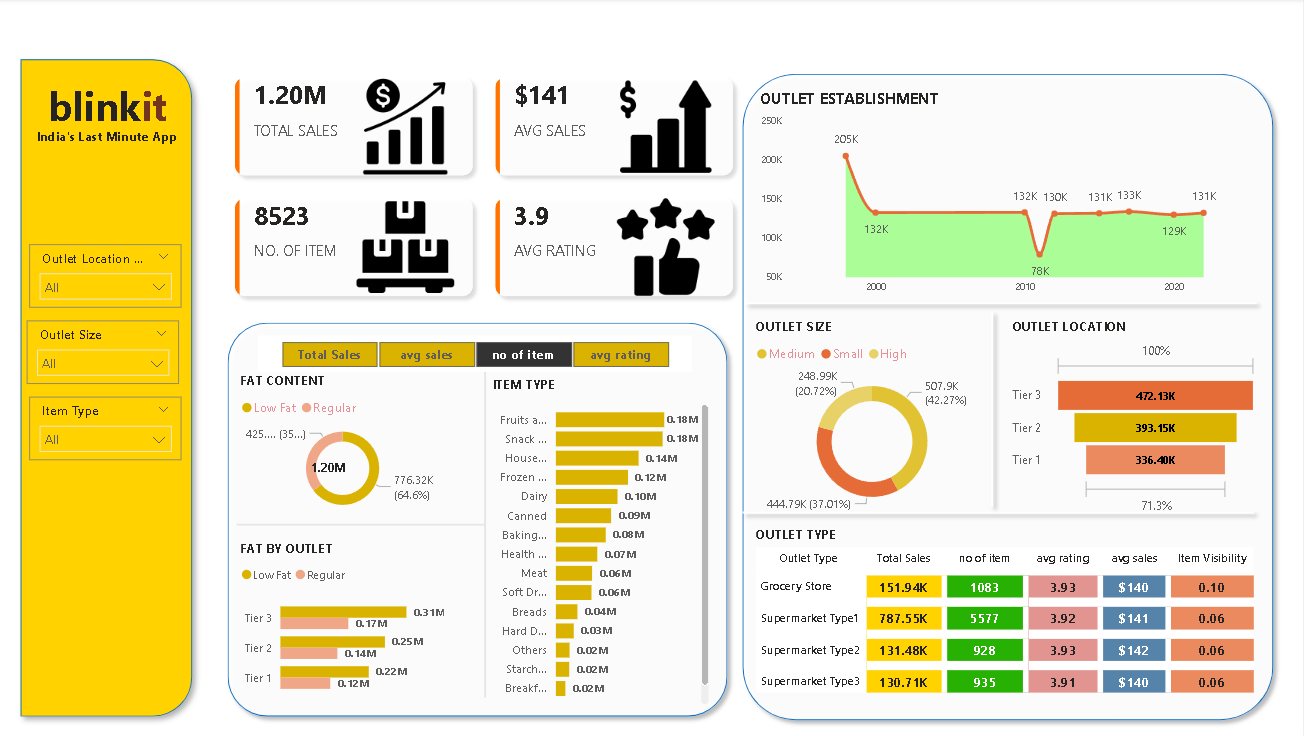

What the dashboard file says about the page in this screenshot:
{"tool":"powerbi","page":{"name":"Page 1","canvas":[1400,800],"ordinal":0},"visuals":[{"type":"shape","box":[13.2,54.7,205.7,726.4],"z":0},{"type":"textbox","box":[30.2,81.1,173.6,86.8],"z":1000},{"type":"textbox","box":[15.1,134,205.7,45.3],"z":2000},{"type":"cardVisual","fields":{"Data":["Sum(BlinkIT Grocery Data.Total Sales)","BlinkIT Grocery Data.avg sales","BlinkIT Grocery Data.no of item","BlinkIT Grocery Data.avg rating"]},"box":[237.7,67.9,569.8,269.8],"z":3000},{"type":"shape","box":[237.7,339,553.9,440.3],"z":4000},{"type":"donutChart","title":"FAT CONTENT","fields":{"Y":["Sum(BlinkIT Grocery Data.Total Sales)"],"Category":["BlinkIT Grocery Data.Item Fat Content"]},"box":[256.3,401,227.4,159.2],"z":5000},{"type":"slicer","fields":{"Values":["matrixs.matrixs"]},"box":[279,361.7,465.1,39.3],"z":6000},{"type":"card","fields":{"Values":["Sum(BlinkIT Grocery Data.Total Sales)"]},"box":[301.8,473.3,105.4,66.1],"z":7000},{"type":"clusteredBarChart","title":"FAT BY OUTLET","fields":{"Category":["BlinkIT Grocery Data.Outlet Location Type"],"Y":["Sum(BlinkIT Grocery Data.Total Sales)"],"Series":["BlinkIT Grocery Data.Item Fat Content"]},"box":[256.3,580.8,227.4,179.8],"z":8000},{"type":"shape","box":[256.3,498.1,266.6,132.3],"z":9000},{"type":"shape","box":[254.2,401,535.3,349.3],"z":10000},{"type":"barChart","title":"ITEM TYPE","fields":{"Category":["BlinkIT Grocery Data.Item Type"],"Y":["Sum(BlinkIT Grocery Data.Total Sales)"]},"box":[525,405.1,241.8,357.6],"z":11000},{"type":"shape","box":[789.6,72.3,587,711],"z":12000},{"type":"lineChart","title":"OUTLET ESTABLISHMENT","fields":{"Y":["Sum(BlinkIT Grocery Data.Total Sales)"],"Category":["BlinkIT Grocery Data.Outlet Establishment Year"]},"box":[812.3,95.1,545.7,231.5],"z":13000},{"type":"donutChart","title":"OUTLET SIZE","fields":{"Y":["Sum(BlinkIT Grocery Data.Total Sales)"],"Category":["BlinkIT Grocery Data.Outlet Size"]},"box":[808.2,343.1,258.4,217],"z":14000},{"type":"funnel","title":"OUTLET LOCATION","fields":{"Y":["Sum(BlinkIT Grocery Data.Total Sales)"],"Category":["BlinkIT Grocery Data.Outlet Location Type"]},"box":[1083.1,343.1,272.8,217],"z":15000},{"type":"shape","box":[789.6,401,566.3,301.8],"z":16000},{"type":"pivotTable","title":"OUTLET TYPE","fields":{"Rows":["BlinkIT Grocery Data.Outlet Type"],"Values":["Sum(BlinkIT Grocery Data.Total Sales)","BlinkIT Grocery Data.no of item","BlinkIT Grocery Data.avg rating","BlinkIT Grocery Data.avg sales","Avg(BlinkIT Grocery Data.Item Visibility)"]},"box":[808.2,566.3,547.7,188.1],"z":17000},{"type":"shape","box":[783.4,326.6,566.3,227.4],"z":18000},{"type":"shape","box":[791.6,219.1,566.3,217],"z":19000},{"type":"slicer","fields":{"Values":["BlinkIT Grocery Data.Outlet Location Type"]},"box":[33.1,264.6,163.3,68.2],"z":20000},{"type":"slicer","fields":{"Values":["BlinkIT Grocery Data.Outlet Size"]},"box":[31,345.2,163.3,68.2],"z":21000},{"type":"slicer","fields":{"Values":["BlinkIT Grocery Data.Item Type"]},"box":[33.1,427.9,163.3,68.2],"z":22000}]}

Visuals, with their boxes in screenshot pixels (x1, y1, x2, y2), scaled from the page's 1400x800 canvas onto the 1304x736 screenshot:
shape: [12, 50, 204, 719]
textbox: [28, 75, 190, 154]
textbox: [14, 123, 206, 165]
cardVisual - Sum(BlinkIT Grocery Data.Total Sales) x BlinkIT Grocery Data.avg sales: [221, 62, 752, 311]
shape: [221, 312, 737, 717]
"FAT CONTENT" donutChart: [239, 369, 451, 515]
slicer - matrixs.matrixs: [260, 333, 693, 369]
card - Sum(BlinkIT Grocery Data.Total Sales): [281, 435, 379, 496]
"FAT BY OUTLET" clusteredBarChart: [239, 534, 451, 700]
shape: [239, 458, 487, 580]
shape: [237, 369, 735, 690]
"ITEM TYPE" barChart: [489, 373, 714, 702]
shape: [735, 67, 1282, 721]
"OUTLET ESTABLISHMENT" lineChart: [757, 87, 1265, 300]
"OUTLET SIZE" donutChart: [753, 316, 993, 515]
"OUTLET LOCATION" funnel: [1009, 316, 1263, 515]
shape: [735, 369, 1263, 647]
"OUTLET TYPE" pivotTable: [753, 521, 1263, 694]
shape: [730, 300, 1257, 510]
shape: [737, 202, 1265, 401]
slicer - BlinkIT Grocery Data.Outlet Location Type: [31, 243, 183, 306]
slicer - BlinkIT Grocery Data.Outlet Size: [29, 318, 181, 380]
slicer - BlinkIT Grocery Data.Item Type: [31, 394, 183, 456]
